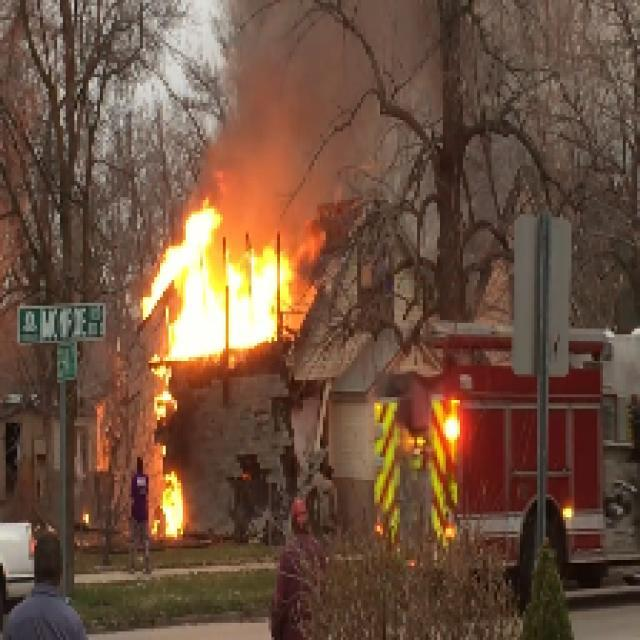Fire: (143, 236, 295, 346)
Smoke: (232, 8, 365, 213)
